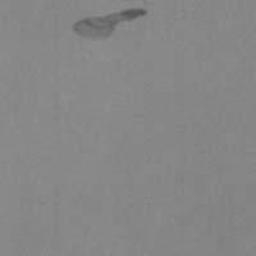Oil spot: (70, 5, 150, 41)
